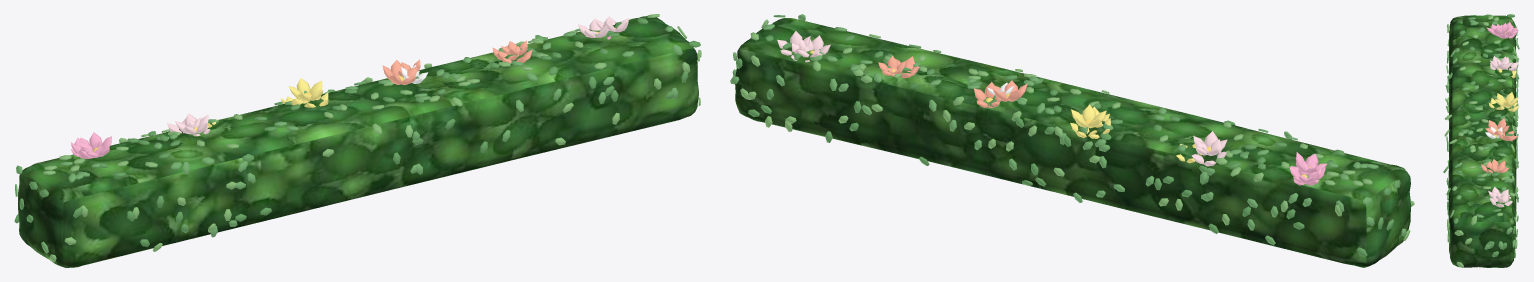
Rendered from hurdle-spring.glb.
3 views of the same model, side by side, from view 1: azimuth 30°, elevation 25°; view 2: azimuth 150°, elevation 25°; view 3: azimuth 270°, elevation 25° (orthographic). The views are drawn at different scales.
Visible parts, largest first — view 1: HedgeBody, HedgeLeaves2, HedgeLeaves1, HedgeLeaves0, Petals.008, Petals.013, Petals.003; view 2: HedgeBody, HedgeLeaves0, HedgeLeaves2, HedgeLeaves1, Petals.008, Petals.013; view 3: HedgeBody, HedgeLeaves2, HedgeLeaves0, HedgeLeaves1, Petals.008, Petals.013, Petals.021, Petals.006, Petals.003, Petals.012, Petals.016, Petals.004 (+8 smaller).
Boxes of the visible parts, bbox=[...] form: HedgeBody: bbox=[18, 16, 698, 267]; HedgeLeaves2: bbox=[43, 14, 701, 261]; HedgeLeaves1: bbox=[14, 17, 700, 246]; HedgeLeaves0: bbox=[15, 26, 682, 253]; Petals.008: bbox=[288, 78, 323, 101]; Petals.013: bbox=[382, 60, 417, 84]; Petals.003: bbox=[79, 132, 111, 157]; HedgeBody: bbox=[735, 18, 1410, 267]; HedgeLeaves0: bbox=[730, 14, 1406, 245]; HedgeLeaves2: bbox=[740, 19, 1414, 240]; HedgeLeaves1: bbox=[732, 15, 1400, 257]; Petals.008: bbox=[1071, 104, 1106, 128]; Petals.013: bbox=[992, 80, 1027, 101]; HedgeBody: bbox=[1448, 15, 1516, 267]; HedgeLeaves2: bbox=[1444, 15, 1518, 267]; HedgeLeaves0: bbox=[1443, 14, 1519, 249]; HedgeLeaves1: bbox=[1445, 14, 1518, 257]; Petals.008: bbox=[1495, 92, 1518, 107]; Petals.013: bbox=[1485, 118, 1509, 135]; Petals.021: bbox=[1490, 191, 1512, 207]; Petals.006: bbox=[1490, 56, 1512, 69]; Petals.003: bbox=[1486, 23, 1508, 35]; Petals.012: bbox=[1497, 127, 1517, 141]; Petals.016: bbox=[1491, 162, 1508, 173]; Petals.004: bbox=[1496, 56, 1518, 70].
Bounding box in the file's own units: 5.48 × 0.7665 × 0.8346.
7 materials, 7 textured.
